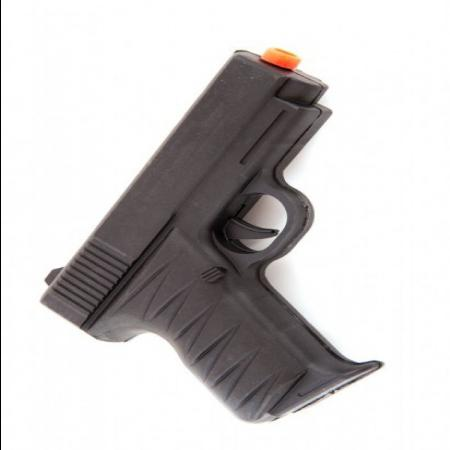Pistol: (38, 39, 392, 424)
